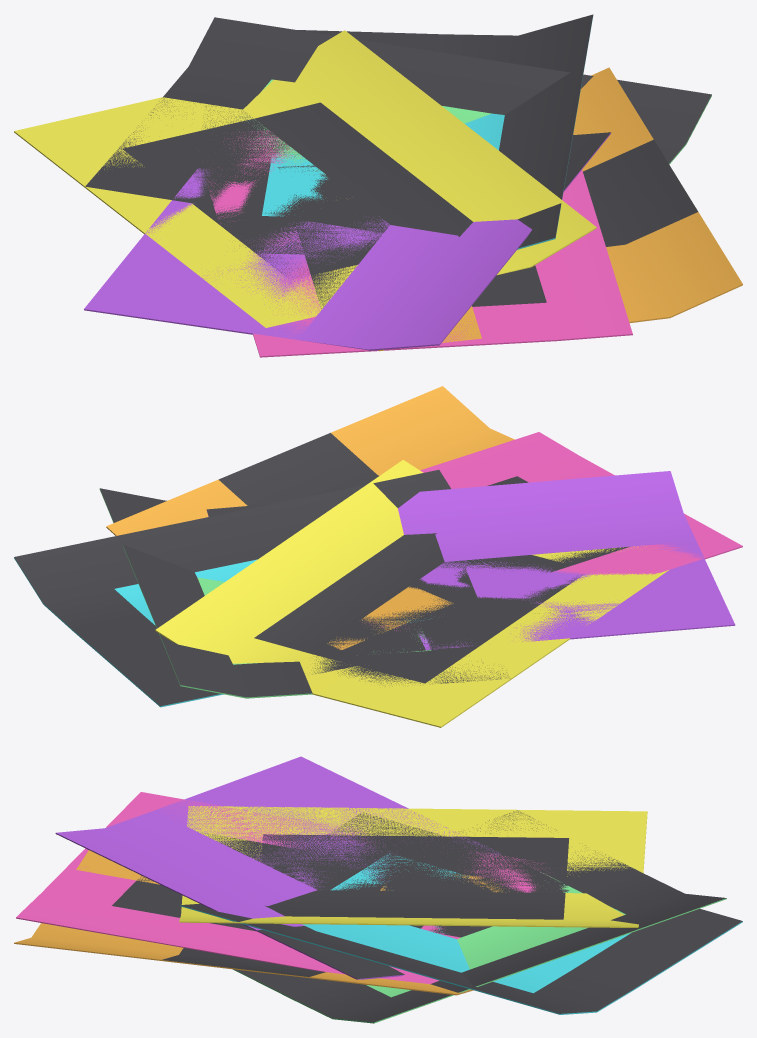
File: paper_flyers_b.fbx
The picture shows the model from 3 angles, top to bottom: view 1: azimuth 30°, elevation 25°; view 2: azimuth 150°, elevation 25°; view 3: azimuth 270°, elevation 25°; orthographic projection. The views are drawn at different scales.
Parts seen in each view (by area): view 1: paper_flyers_b; view 2: paper_flyers_b; view 3: paper_flyers_b.
Part boxes in pixels (x1,y1,x2,y2): paper_flyers_b: (14, 14, 742, 357); paper_flyers_b: (14, 386, 742, 727); paper_flyers_b: (14, 756, 742, 1023).
Bounding box in the file's own units: 0.2162 × 0.00836 × 0.2349.
